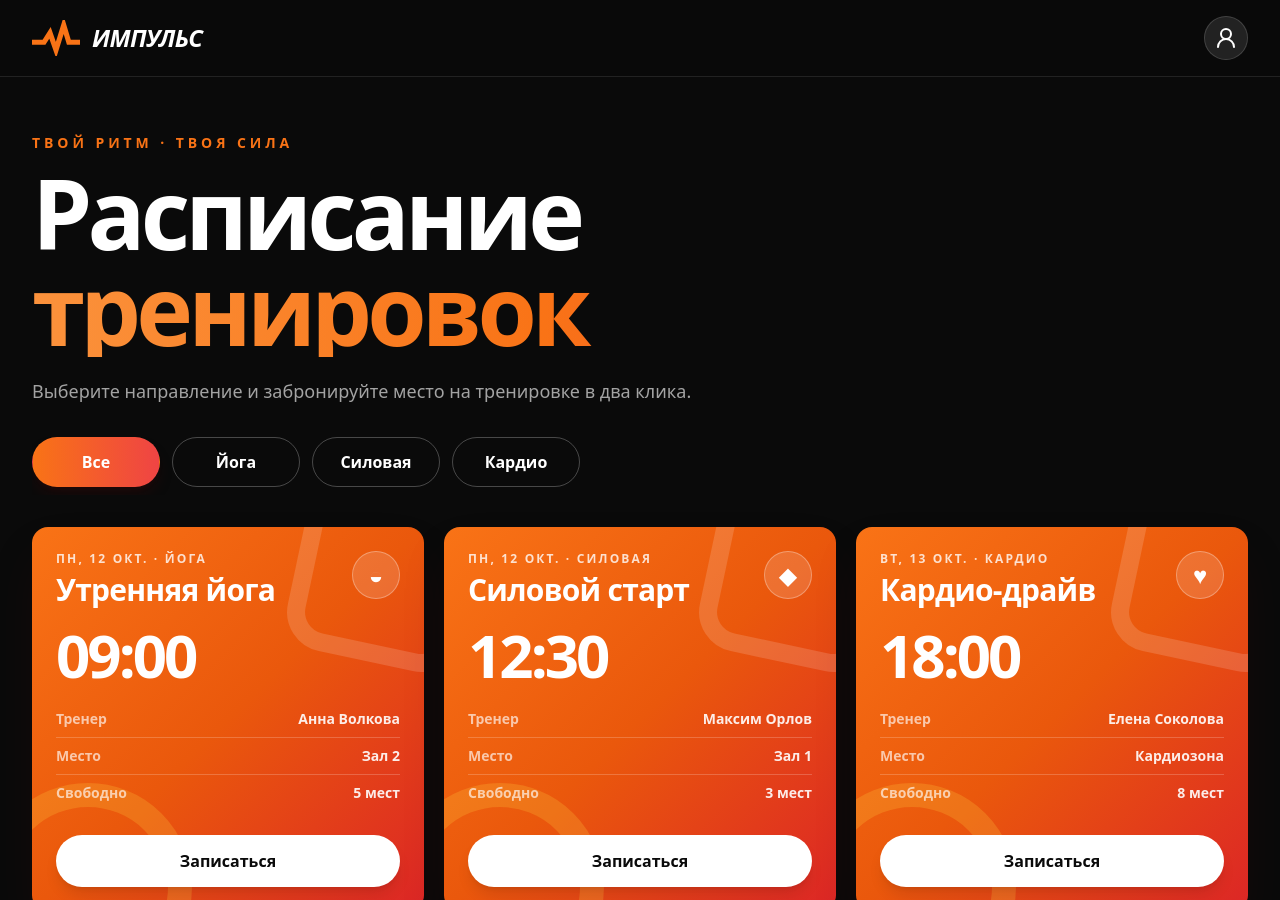
Test: TrainingList filtering › shows only yoga trainings after selecting the Yoga filter
Click the button "Йога": [236, 462] box x1=172 y1=437 x2=300 y2=487
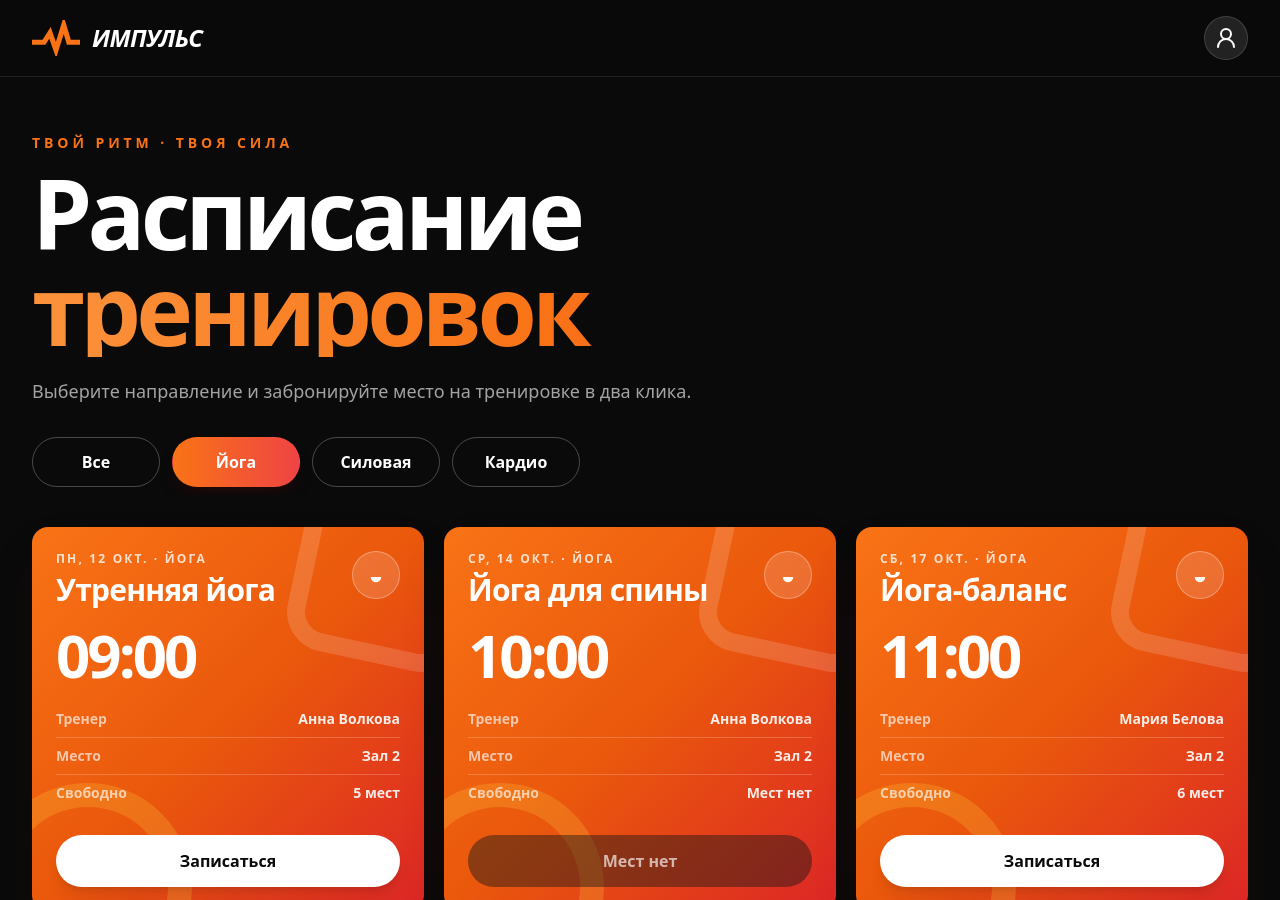
Expected: the heading "Утренняя йога" is shown, x1=56 y1=575 x2=275 y2=605
Expected: the heading "Силовой старт" is gone
Expected: the heading "Кардио-драйв" is gone
